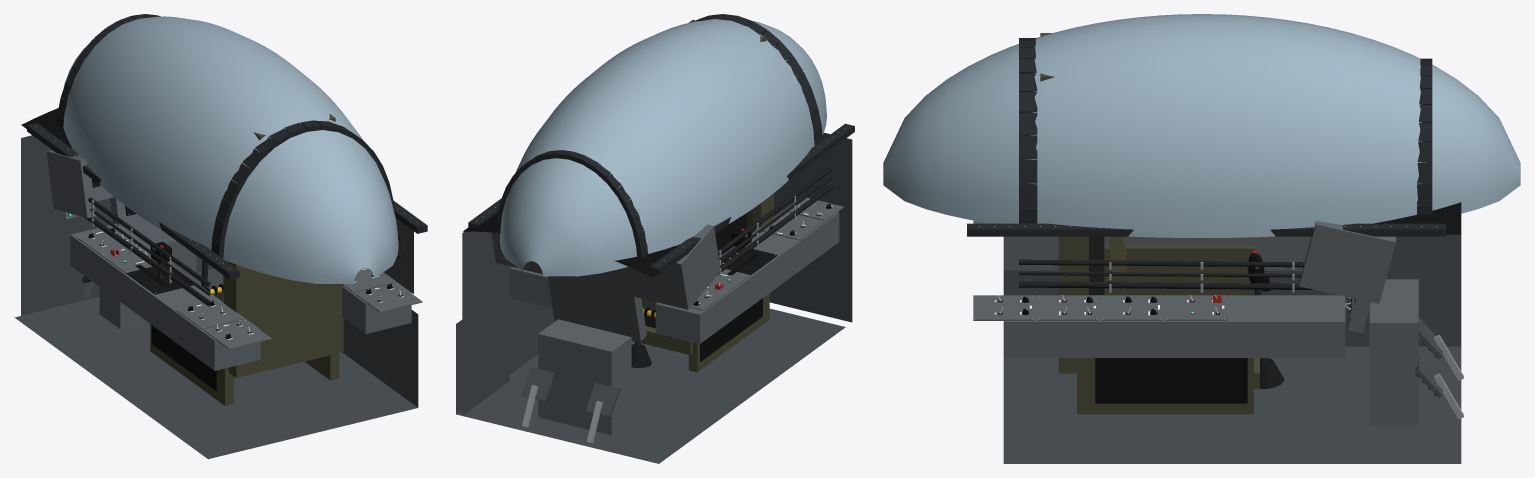
File: kit_analog.glb
The picture shows the model from 3 angles, left to right: view 1: azimuth 30°, elevation 25°; view 2: azimuth 150°, elevation 25°; view 3: azimuth 270°, elevation 25°; orthographic projection. The views are drawn at different scales.
Visible parts, largest first — view 1: cockpit, CANOPY_GLASS; view 2: cockpit, CANOPY_GLASS, STICK; view 3: cockpit, CANOPY_GLASS, STICK.
Boxes of the visible parts, box(x1,y1,x2,y2) form: cockpit: box(14, 14, 427, 459); CANOPY_GLASS: box(63, 16, 398, 283); cockpit: box(456, 14, 854, 463); CANOPY_GLASS: box(499, 19, 826, 276); STICK: box(631, 298, 651, 367); cockpit: box(967, 33, 1463, 463); CANOPY_GLASS: box(883, 14, 1520, 237); STICK: box(1248, 250, 1283, 388).
Size of the model in its own units: 0.94 by 1.37 by 2.09.
